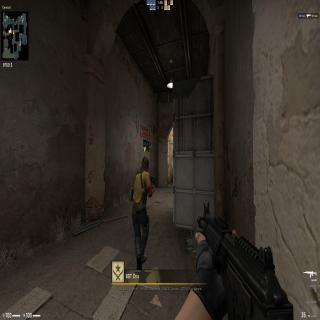T-Head: (140, 155, 150, 172)
